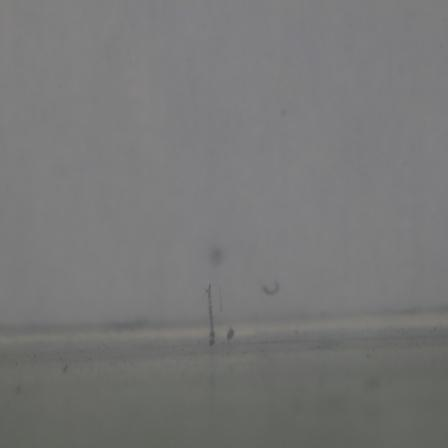Jentik-Nyamuk: (198, 279, 220, 349)
